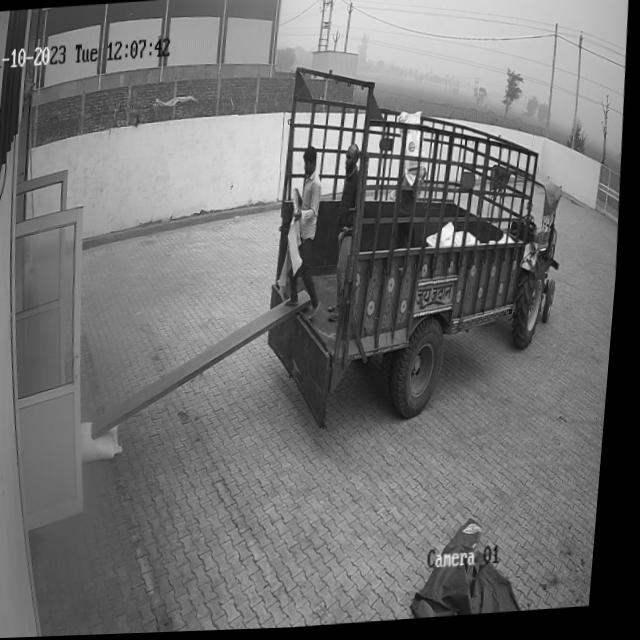sack: (84, 419, 131, 462)
